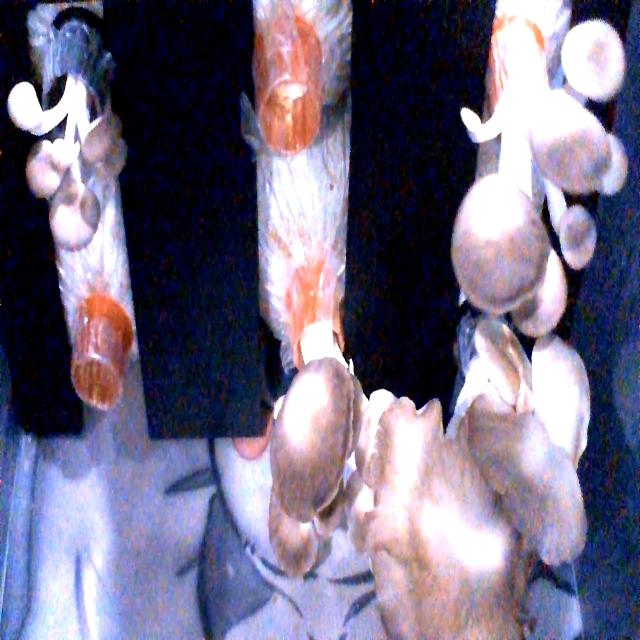big: (367, 332, 600, 640), (438, 8, 638, 333), (254, 360, 386, 552)
nfound: (248, 52, 328, 163), (65, 342, 129, 434)
small: (4, 65, 132, 267)
